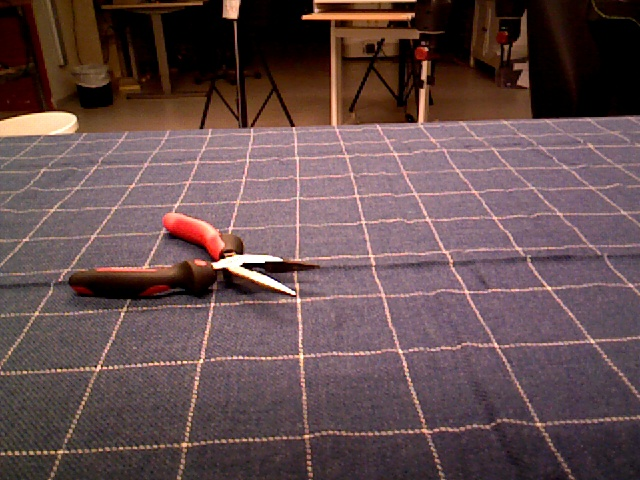plier1: (68, 213, 322, 303)
